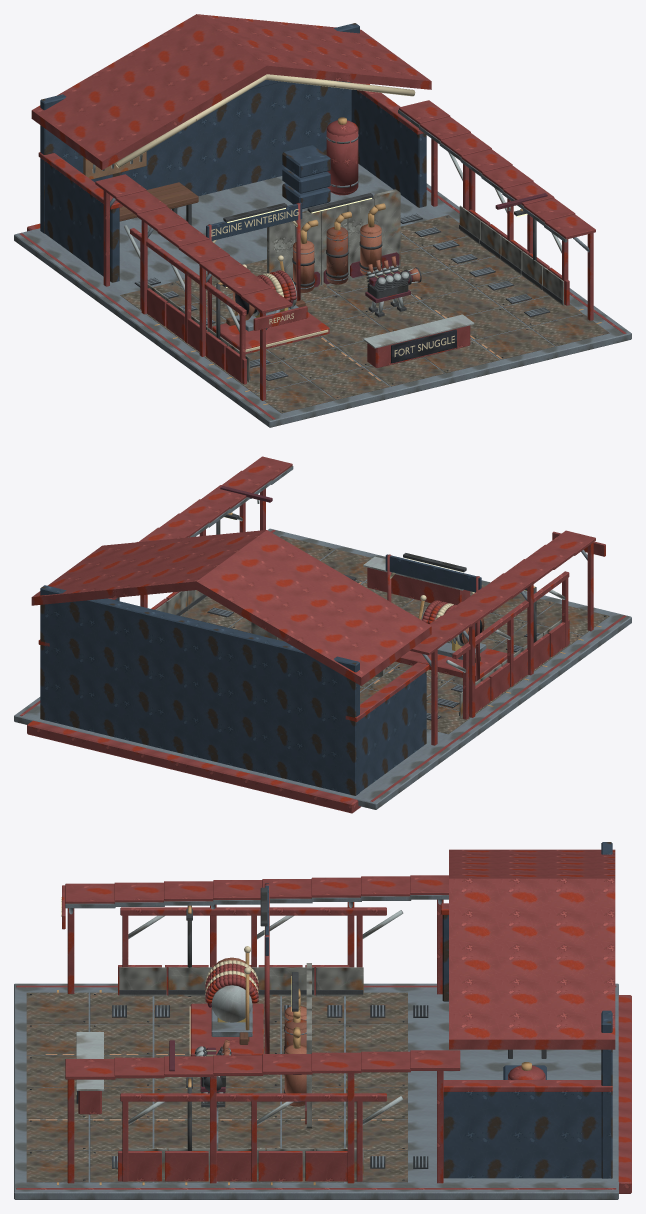
Rendered from brrrindle-garage.glb.
3 renders of one model, top to bottom at view 1: azimuth 30°, elevation 25°; view 2: azimuth 150°, elevation 25°; view 3: azimuth 270°, elevation 25°, orthographic. The views are drawn at different scales.
Visible parts, largest first — view 1: brrrindle-garage, Warm Wrench Garage drive; view 2: brrrindle-garage; view 3: brrrindle-garage.
Part boxes in pixels (x1=…): brrrindle-garage: x1=14, y1=14, x2=631, y2=427; Warm Wrench Garage drive: x1=365, y1=256, x2=409, y2=298; brrrindle-garage: x1=14, y1=456, x2=631, y2=813; brrrindle-garage: x1=14, y1=842, x2=631, y2=1199.
Size of the model in its own units: 16.9 by 8.36 by 21.09.
21 materials, 19 textured.
